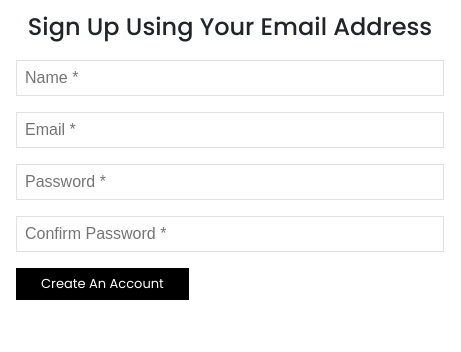
Scenario: Register page › interactions › displays an error if the user email already exists
In the field with placeholder "Name *": (230, 78) [16,60,444,96], type "john doe"
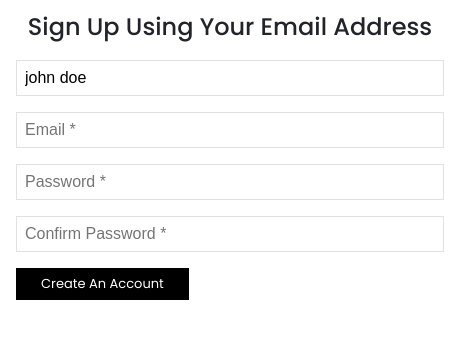
In the field with placeholder "Email *": (230, 130) [16,112,444,148], type "user1@gmail.com"
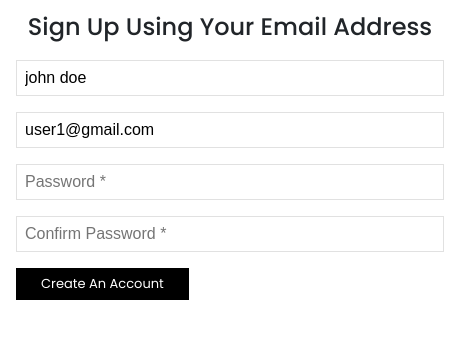
In the password field with placeholder "Password *": (230, 182) [16,164,444,200], type "password"
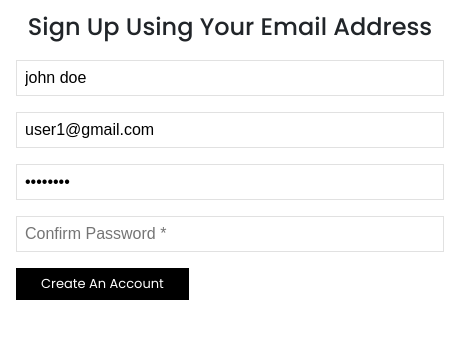
In the password field with placeholder "Confirm Password *": (230, 234) [16,216,444,252], type "password"
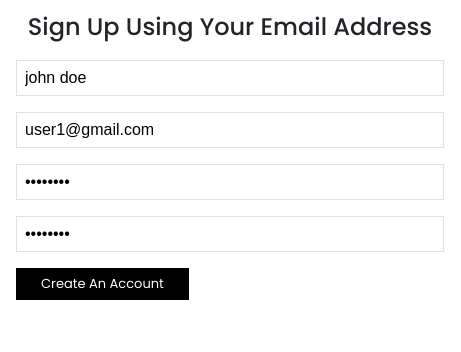
Click the button "create an account": (102, 284) [16,268,189,300]
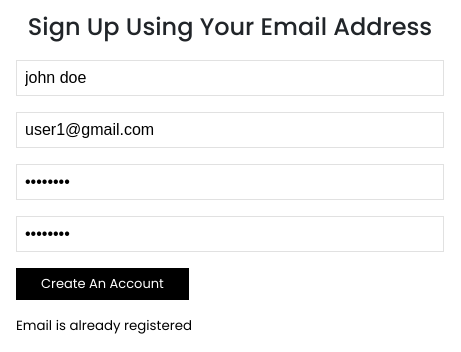
expect the text "Email is already registered" is shown: met, box [16,316,192,335]
